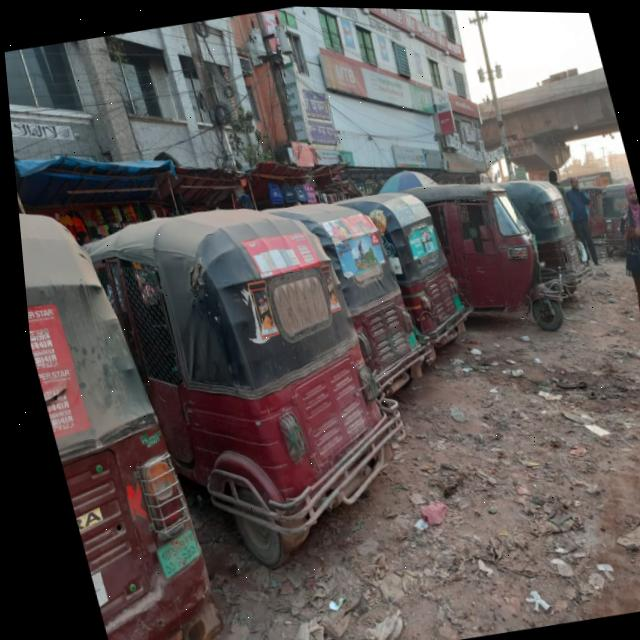cng: (56, 176, 415, 550), (402, 169, 569, 361)
